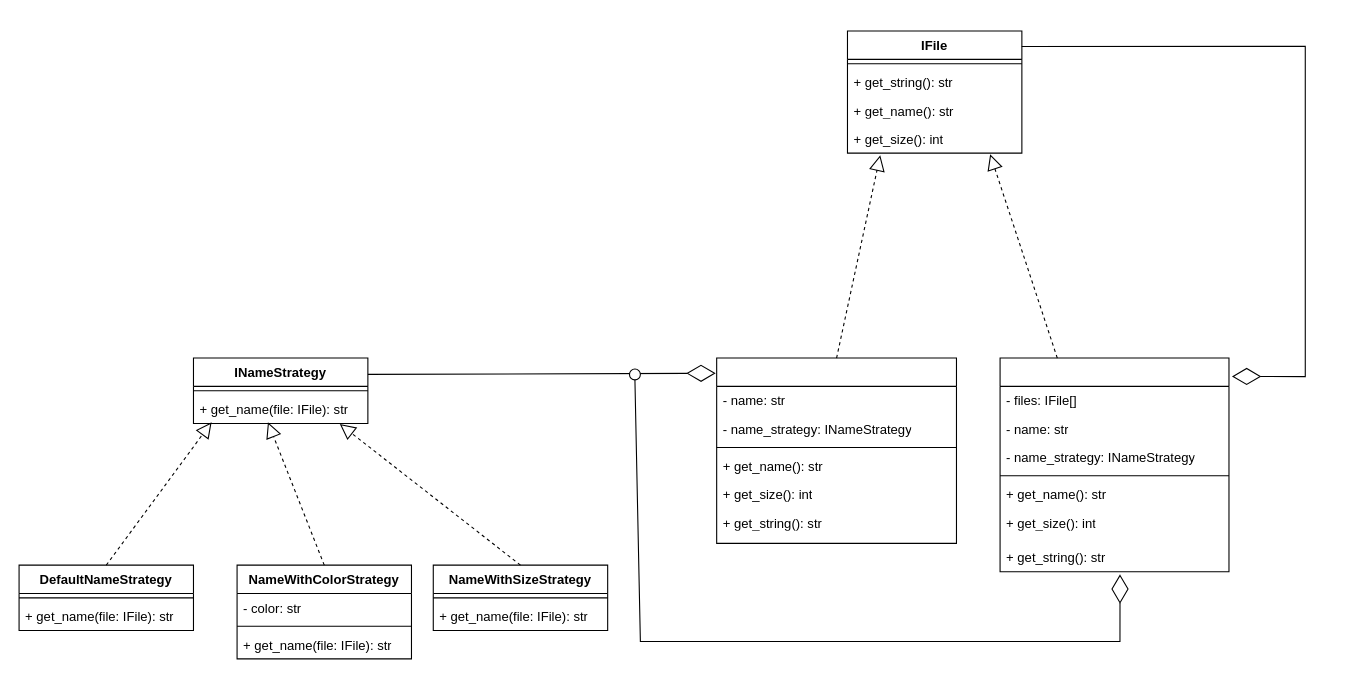
This 1353x689 diagram has some shape labels left out. The shapes that lost their labels are listed below. From the top down, each one's box as (x1, y1, x2, y2) in pixels, then its label:
(716, 357, 956, 543): File
(999, 357, 1229, 572): Directory
